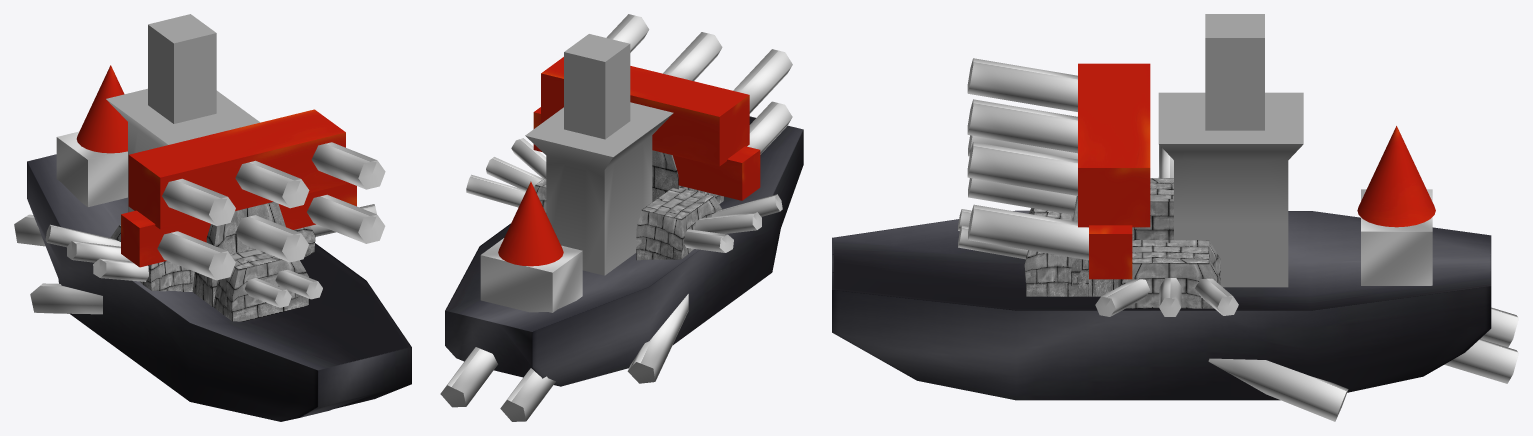
Rendered from SenkanType3.FBX.
The picture shows the model from 3 angles, left to right: view 1: azimuth 30°, elevation 25°; view 2: azimuth 150°, elevation 25°; view 3: azimuth 270°, elevation 25°; orthographic projection. The views are drawn at different scales.
Visible parts, largest first — view 1: Box001, Box011, Box005, Box004, Box008, Box002, Cone001, Box010, Cylinder010, Cylinder011, Cylinder012, Box003 (+12 smaller); view 2: Box001, Box004, Box011, Box005, Box008, Box006, Cone001, Box010, Cylinder016, Cylinder017, Cylinder014, Cylinder018 (+10 smaller); view 3: Box001, Box004, Box011, Box005, Box007, Box008, Cone001, Cylinder010, Cylinder012, Cylinder013, Cylinder014, Cylinder015 (+12 smaller).
Part boxes in pixels (x1,y1,x2,y2): Box001: [27, 154, 411, 421]; Box011: [128, 109, 345, 229]; Box005: [148, 14, 216, 123]; Box004: [106, 88, 260, 212]; Box008: [56, 131, 127, 206]; Box002: [205, 248, 309, 321]; Cone001: [76, 65, 127, 153]; Box010: [121, 210, 210, 267]; Cylinder010: [307, 194, 385, 243]; Cylinder011: [157, 231, 235, 280]; Cylinder012: [311, 142, 385, 189]; Box003: [192, 201, 285, 306]; Box001: [445, 116, 803, 386]; Box004: [525, 102, 673, 275]; Box011: [541, 57, 749, 166]; Box005: [564, 34, 630, 139]; Box008: [480, 238, 582, 312]; Box006: [636, 187, 722, 260]; Cone001: [498, 181, 563, 266]; Box010: [673, 146, 760, 200]; Cylinder016: [627, 294, 688, 383]; Cylinder017: [440, 347, 497, 407]; Cylinder014: [733, 49, 792, 113]; Cylinder018: [500, 368, 555, 421]; Box001: [832, 210, 1491, 400]; Box004: [1158, 92, 1303, 287]; Box011: [1078, 63, 1150, 227]; Box005: [1205, 14, 1264, 130]; Box007: [1118, 239, 1220, 308]; Box008: [1361, 189, 1432, 285]; Cone001: [1357, 126, 1435, 227]; Cylinder010: [968, 204, 1088, 260]; Cylinder012: [967, 142, 1077, 195]; Cylinder013: [967, 99, 1077, 153]; Cylinder014: [967, 58, 1077, 111]; Cylinder015: [1208, 358, 1348, 421].
Bounding box in the file's own units: 160 × 294 × 160.
6 materials, 6 textured.
